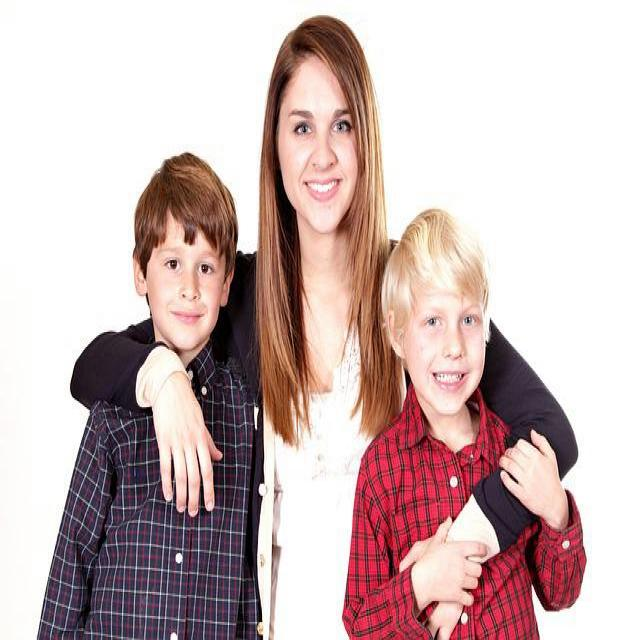adult: (71, 14, 578, 640)
child: (34, 151, 263, 640), (342, 206, 588, 640)
